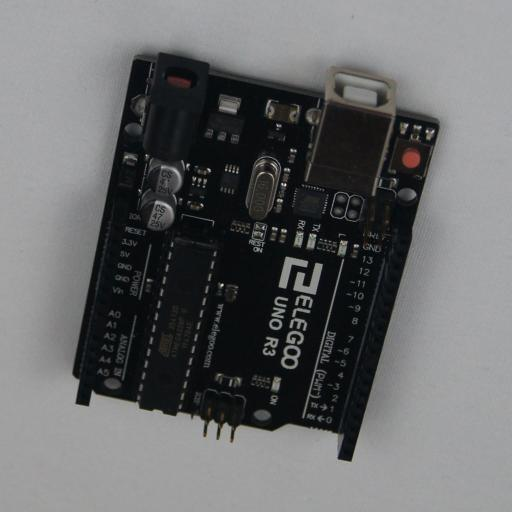Arduino Uno -Black-: (72, 52, 440, 462)
